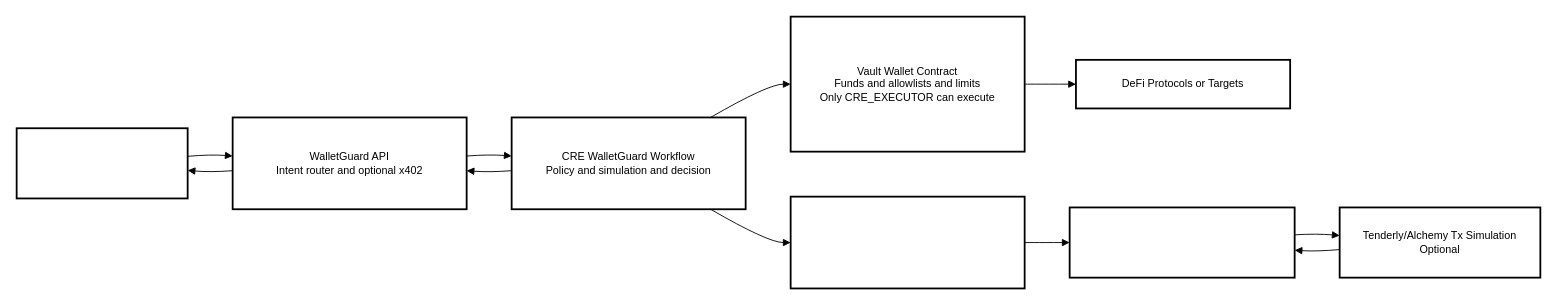
This 1556x304 diagram has some shape labels left out. The box of each missing label's shape, as (x1, y1, x2, y2) in pixels:
Agent Untrusted planner: (15, 127, 188, 199)
Confidential HTTP Capability Secret injection in enclave: (789, 195, 1025, 289)
Local Risk Simulator API Heuristics and aggregation: (1068, 206, 1295, 278)
